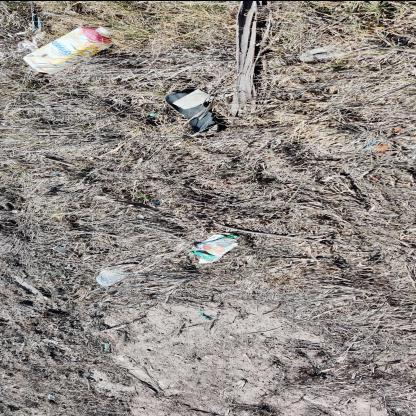karton: (23, 26, 114, 74), (190, 234, 240, 264), (174, 89, 216, 109)
